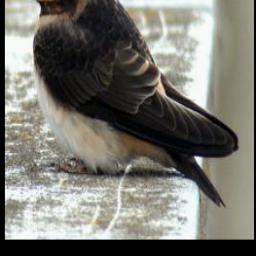Swallow: (26, 0, 240, 212)
